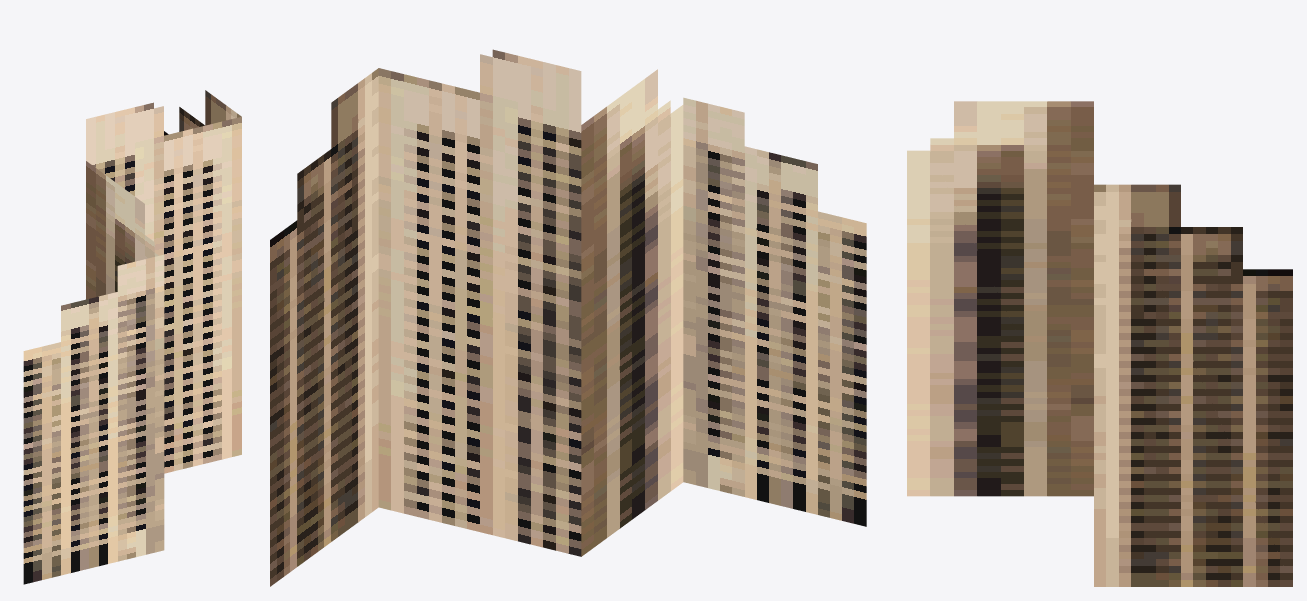
3 views of the same model, side by side, from view 1: azimuth 30°, elevation 25°; view 2: azimuth 150°, elevation 25°; view 3: azimuth 270°, elevation 25° (orthographic). The views are drawn at different scales.
Visible parts, largest first — view 1: obj-cy3-32; view 2: obj-cy3-32; view 3: obj-cy3-32.
Boxes of the visible parts, x1,y1,x2,y2 form: obj-cy3-32: (23,90,241,584); obj-cy3-32: (270,49,866,586); obj-cy3-32: (907,101,1292,586).
Bounding box in the file's own units: 6.02 × 7.12 × 5.52.
Materials: 4 (4 with a texture image).
